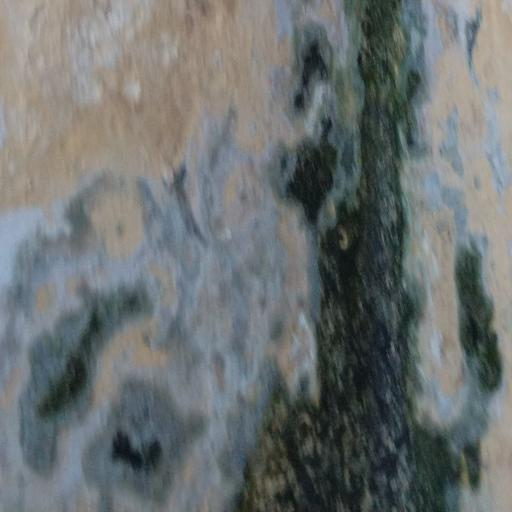algae: (158, 12, 512, 512)
